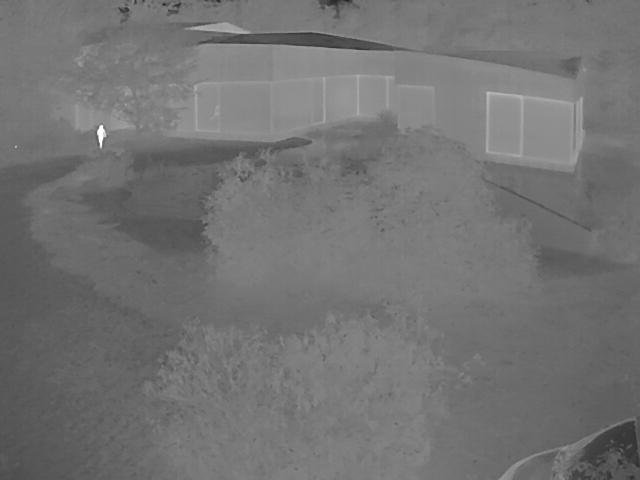person: (98, 124, 109, 149)
